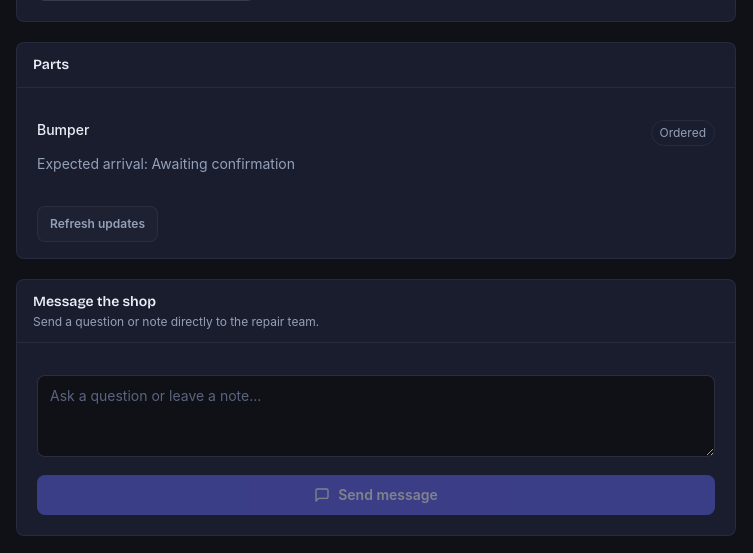
Scenario: Phase 6D public portals › keeps tracking reads and customer message payloads while resolving relative photos
The image size is (753, 553).
(page scrolled)
Type "Please call me with an update." into the text box named "Message" at (376, 416), box [37,375,715,457]
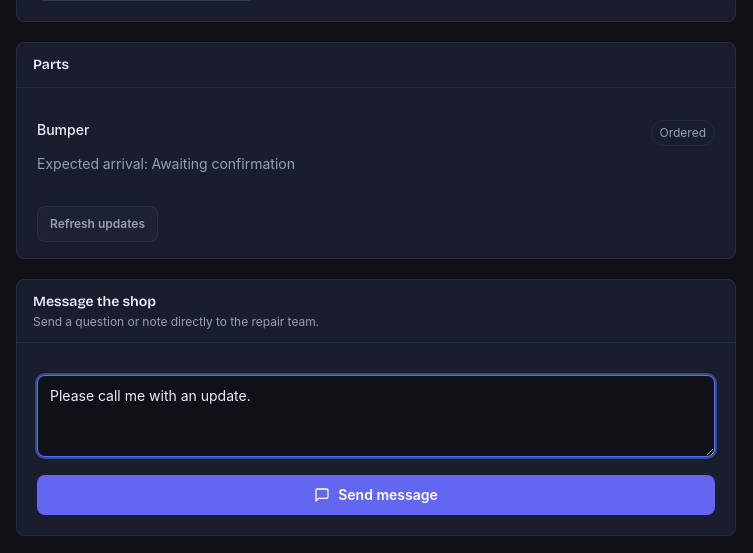
Click the button "Send message" at (376, 495), box [37,475,715,515]
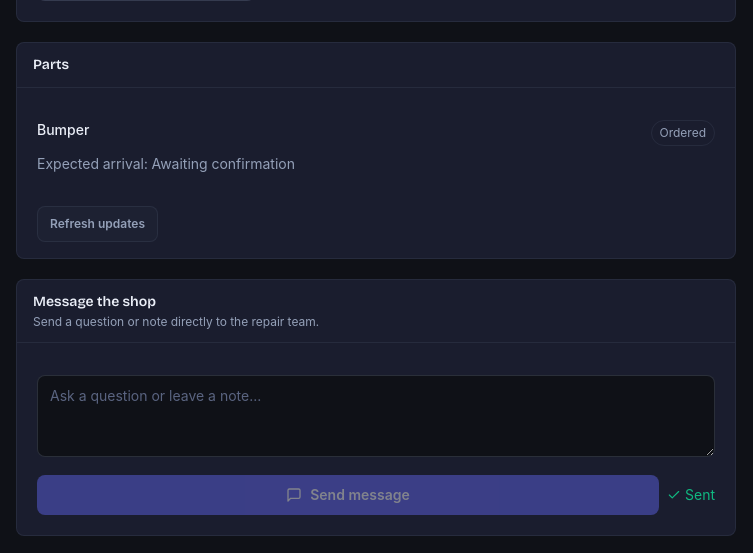
Expected: the message reads "Sent", [685,486,715,503]
